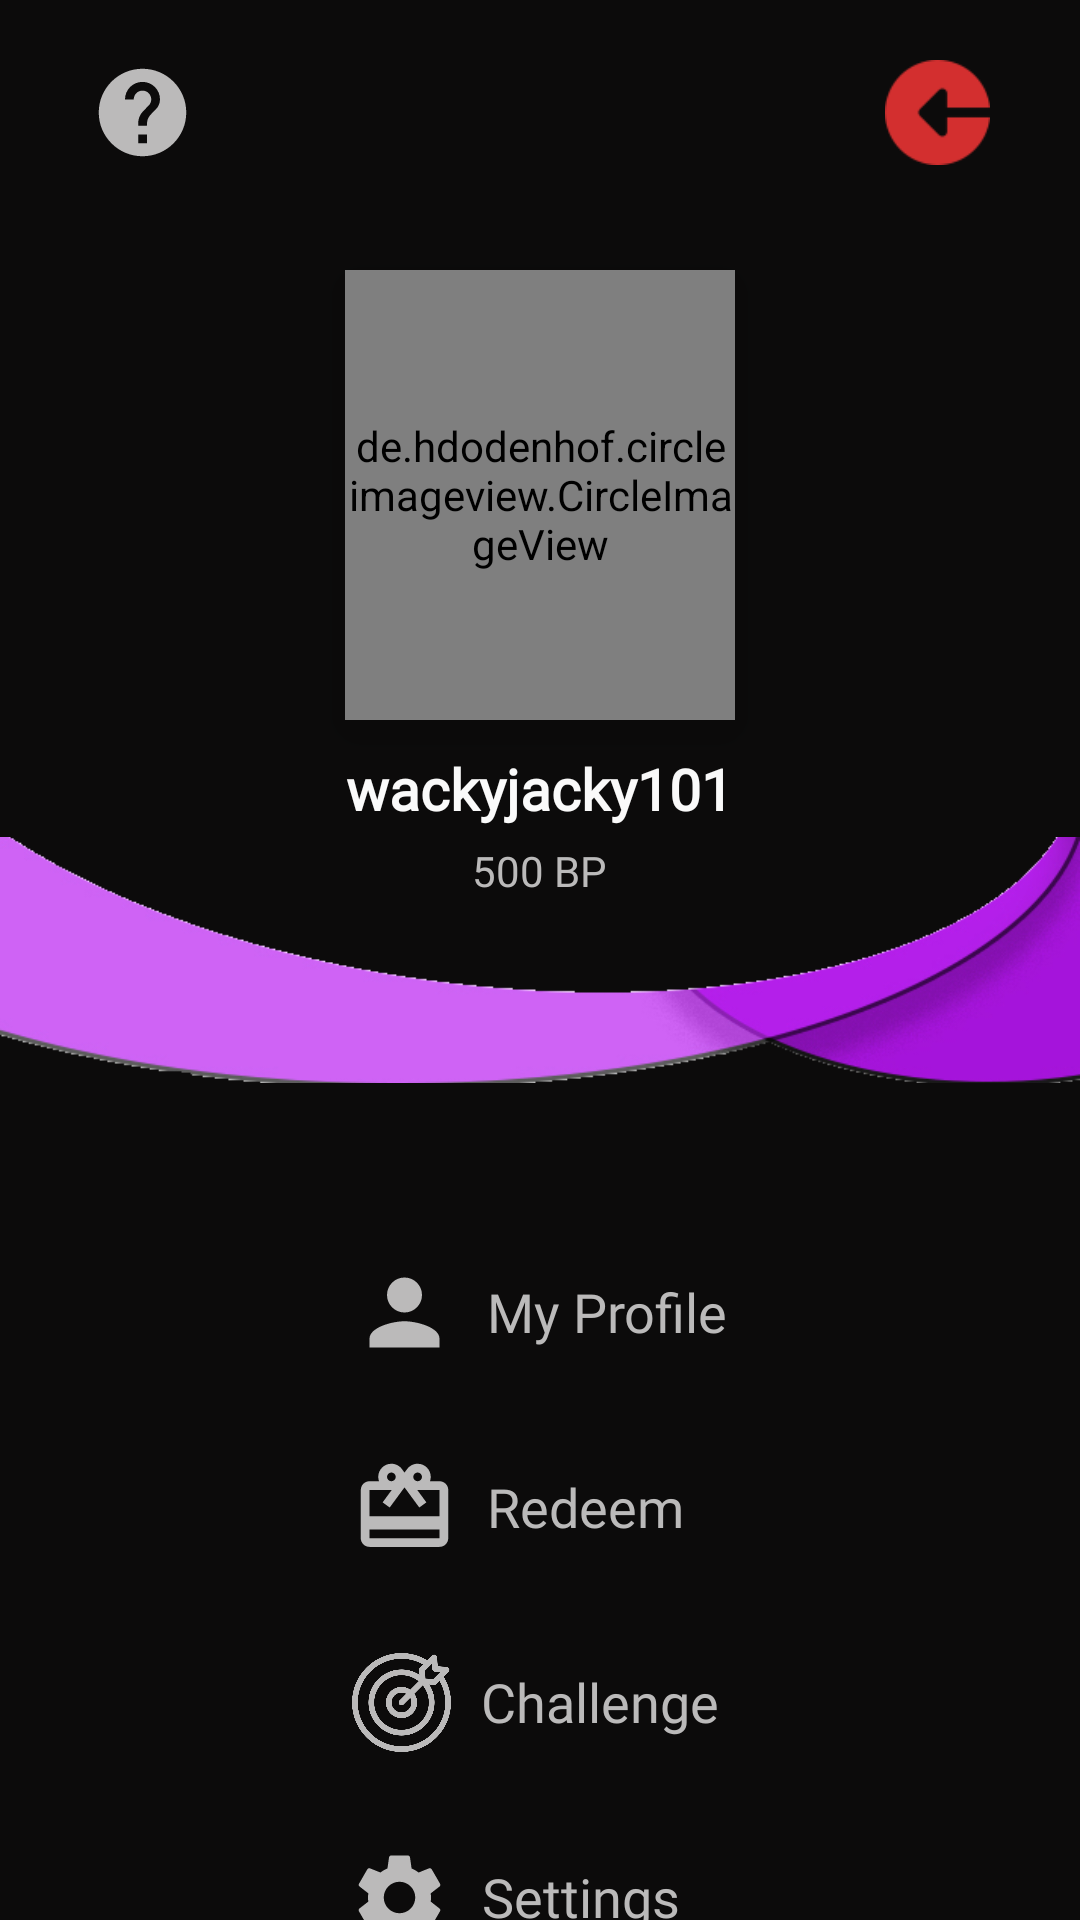

Icon click points for this 1080w x 1920h phone screenshot, format [x,y]:
help: [142,112]
person profile: [404,1312]
targets: [401,1702]
